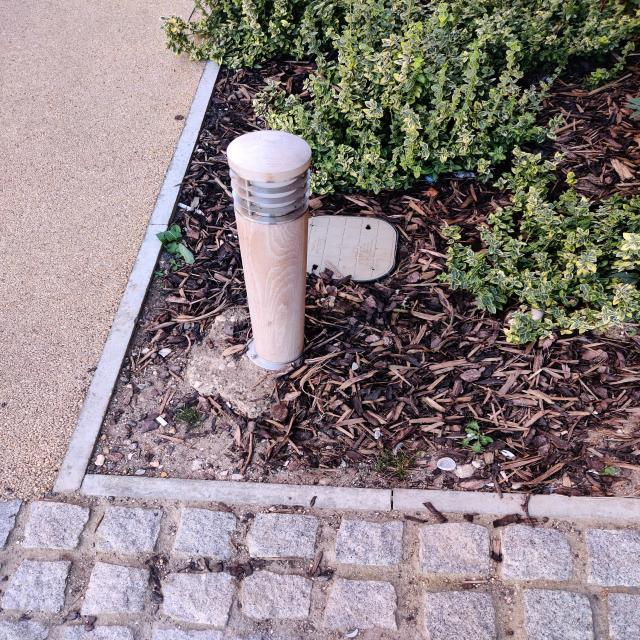litter: (438, 457, 455, 470), (156, 416, 166, 426), (503, 450, 515, 458)
